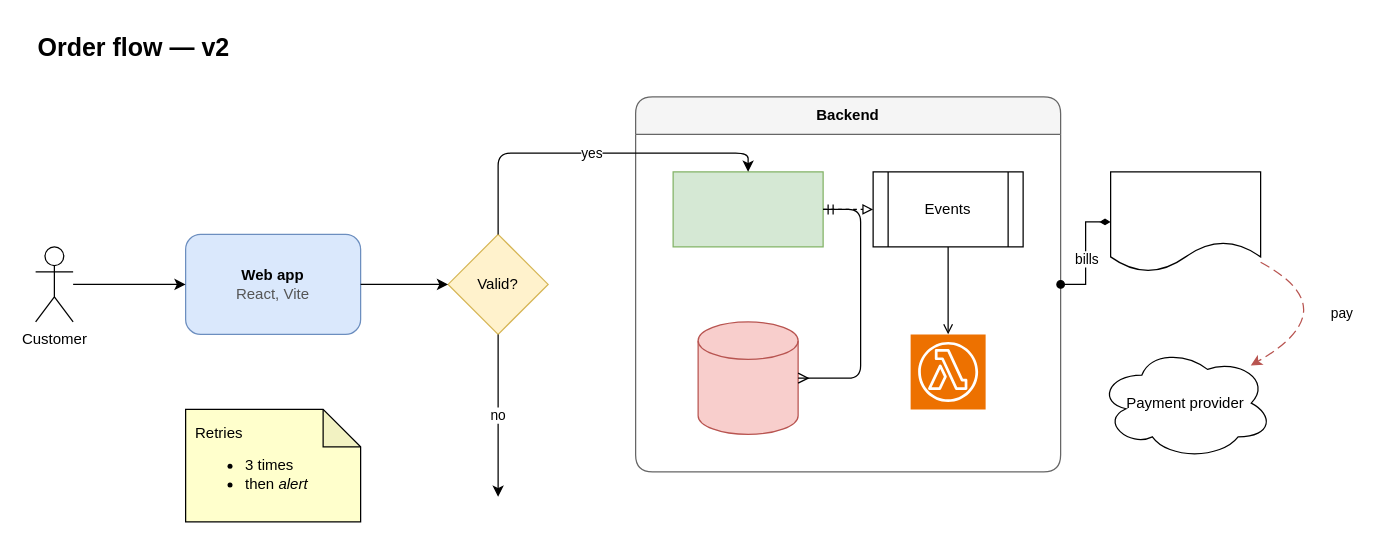
Some shapes in this 1375 by 544 pixel diagram are drawn without their labels. Each missing label, with the centre of its shape:
Invoice: the point at 1185,221
Orders API: the point at 747,209
Orders DB: the point at 747,377
